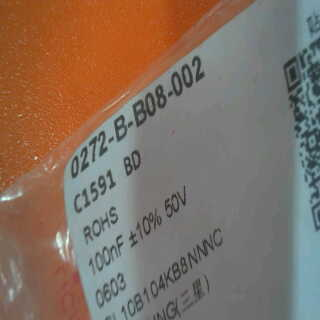100nF: (84, 230, 126, 274)
